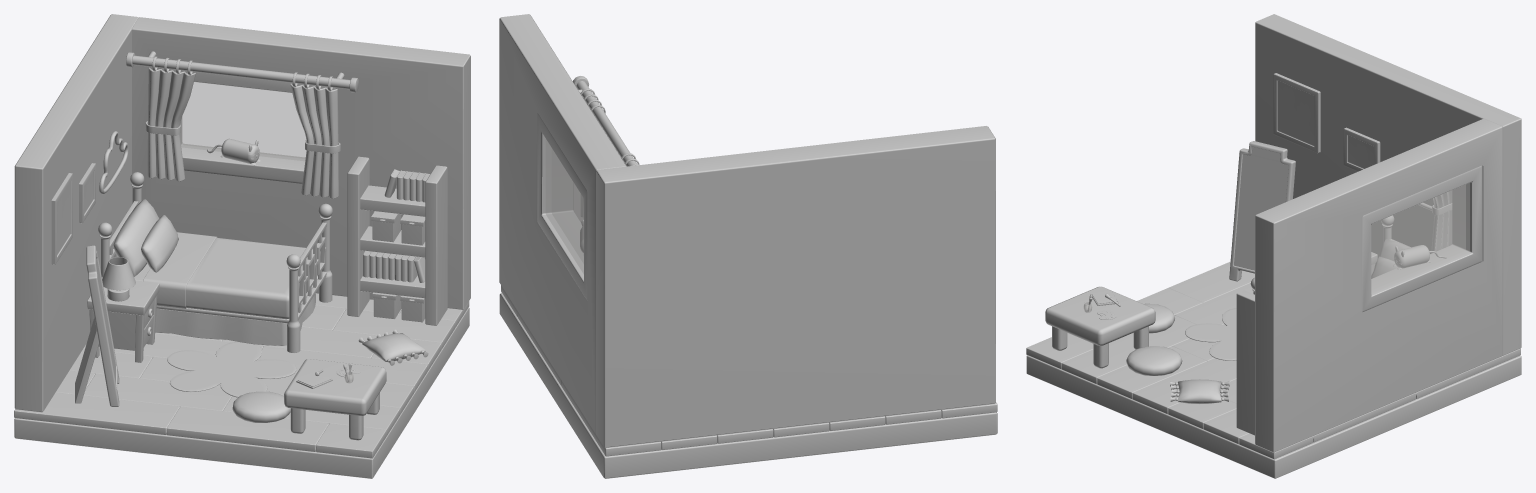
File: Childrens_Room_22.fbx
3 views of the same model, side by side, from view 1: azimuth 30°, elevation 25°; view 2: azimuth 150°, elevation 25°; view 3: azimuth 270°, elevation 25° (orthographic). The views are drawn at different scales.
Parts seen in each view (by area): view 1: Room_22_Wall_1, Room_22_Wall_2, Room_22_Floor_2, Room_22_Bed_1, Room_22_Window_1, Room_22_Curtain_1, Room_22_Floor_1, Room_22_Shelf_1, Room_22_Table_1, Room_22_Carpet_1, Room_22_Bedside_cabinet_1, Room_22_Mirror_1 (+15 smaller); view 2: Room_22_Wall_2, Room_22_Wall_1, Room_22_Floor_1, Room_22_Window_1, Room_22_Floor_2, Room_22_Curtain_1; view 3: Room_22_Wall_1, Room_22_Wall_2, Room_22_Floor_2, Room_22_Window_1, Room_22_Floor_1, Room_22_Mirror_1, Room_22_Table_1, Room_22_Painting_1, Room_22_Shelf_1, Room_22_Carpet_1, Room_22_Pillow_5, Room_22_Pillow_2 (+4 smaller).
Boxes of the visible parts, x1=… form: Room_22_Wall_1: x1=132, y1=17, x2=470, y2=309; Room_22_Wall_2: x1=14, y1=14, x2=138, y2=412; Room_22_Floor_2: x1=14, y1=293, x2=469, y2=458; Room_22_Bed_1: x1=98, y1=172, x2=332, y2=353; Room_22_Window_1: x1=160, y1=68, x2=335, y2=183; Room_22_Curtain_1: x1=126, y1=51, x2=358, y2=198; Room_22_Floor_1: x1=14, y1=307, x2=469, y2=478; Room_22_Shelf_1: x1=347, y1=156, x2=447, y2=325; Room_22_Table_1: x1=284, y1=359, x2=386, y2=440; Room_22_Carpet_1: x1=167, y1=342, x2=296, y2=397; Room_22_Bedside_cabinet_1: x1=87, y1=277, x2=159, y2=362; Room_22_Mirror_1: x1=75, y1=245, x2=119, y2=406; Room_22_Wall_2: x1=596, y1=126, x2=995, y2=447; Room_22_Wall_1: x1=499, y1=14, x2=626, y2=433; Room_22_Floor_1: x1=499, y1=292, x2=997, y2=478; Room_22_Window_1: x1=537, y1=113, x2=587, y2=300; Room_22_Floor_2: x1=501, y1=285, x2=997, y2=456; Room_22_Curtain_1: x1=573, y1=76, x2=639, y2=219; Room_22_Wall_1: x1=1255, y1=118, x2=1502, y2=452; Room_22_Wall_2: x1=1255, y1=14, x2=1521, y2=355; Room_22_Floor_2: x1=1026, y1=261, x2=1520, y2=459; Room_22_Window_1: x1=1362, y1=165, x2=1482, y2=311; Room_22_Floor_1: x1=1026, y1=355, x2=1521, y2=478; Room_22_Mirror_1: x1=1229, y1=141, x2=1295, y2=281; Room_22_Table_1: x1=1045, y1=286, x2=1155, y2=368; Room_22_Painting_1: x1=1273, y1=73, x2=1320, y2=152; Room_22_Shelf_1: x1=1236, y1=290, x2=1254, y2=435; Room_22_Carpet_1: x1=1185, y1=308, x2=1236, y2=360; Room_22_Pillow_5: x1=1126, y1=346, x2=1182, y2=375; Room_22_Pillow_2: x1=1170, y1=379, x2=1229, y2=403.
Size of the model in its own units: 704 by 402 by 702.
